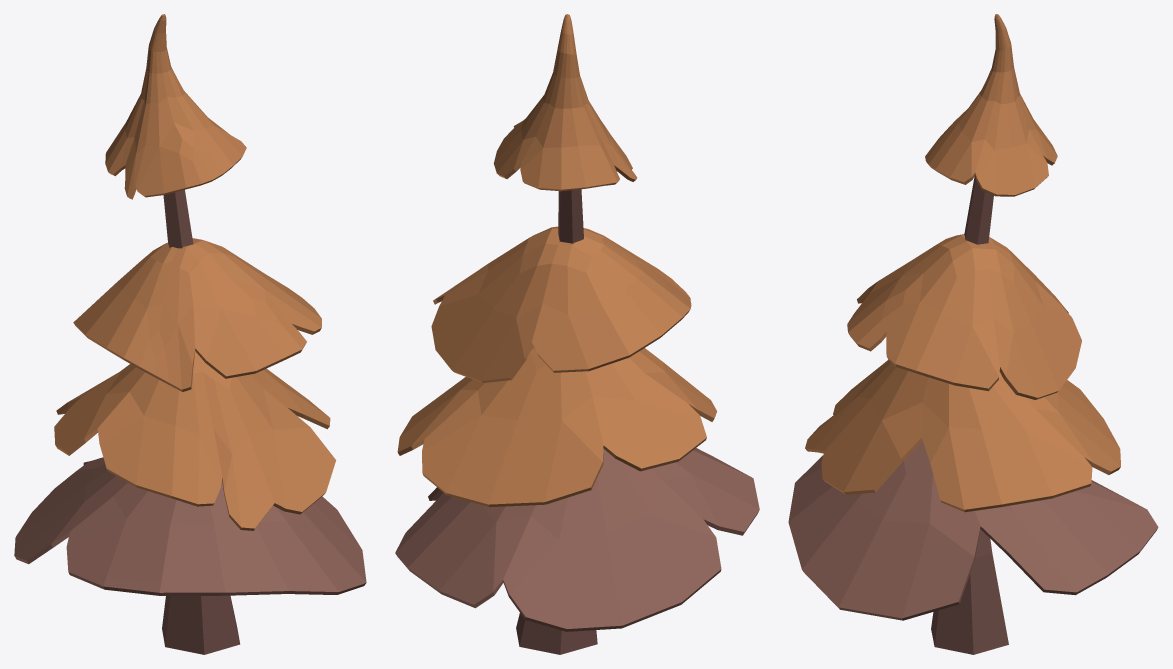
Rendered from pinetree_autumn_2.glb.
3 renders of one model, left to right at view 1: azimuth 30°, elevation 25°; view 2: azimuth 150°, elevation 25°; view 3: azimuth 270°, elevation 25°, orthographic. The views are drawn at different scales.
Visible parts, largest first — view 1: PineTree_Autumn_2; view 2: PineTree_Autumn_2; view 3: PineTree_Autumn_2.
Part boxes in pixels (<box>): PineTree_Autumn_2: <box>14,14,366,654</box>; PineTree_Autumn_2: <box>395,14,759,654</box>; PineTree_Autumn_2: <box>788,14,1158,654</box>.
Size of the model in its own units: 1.8 by 3.56 by 1.96.
